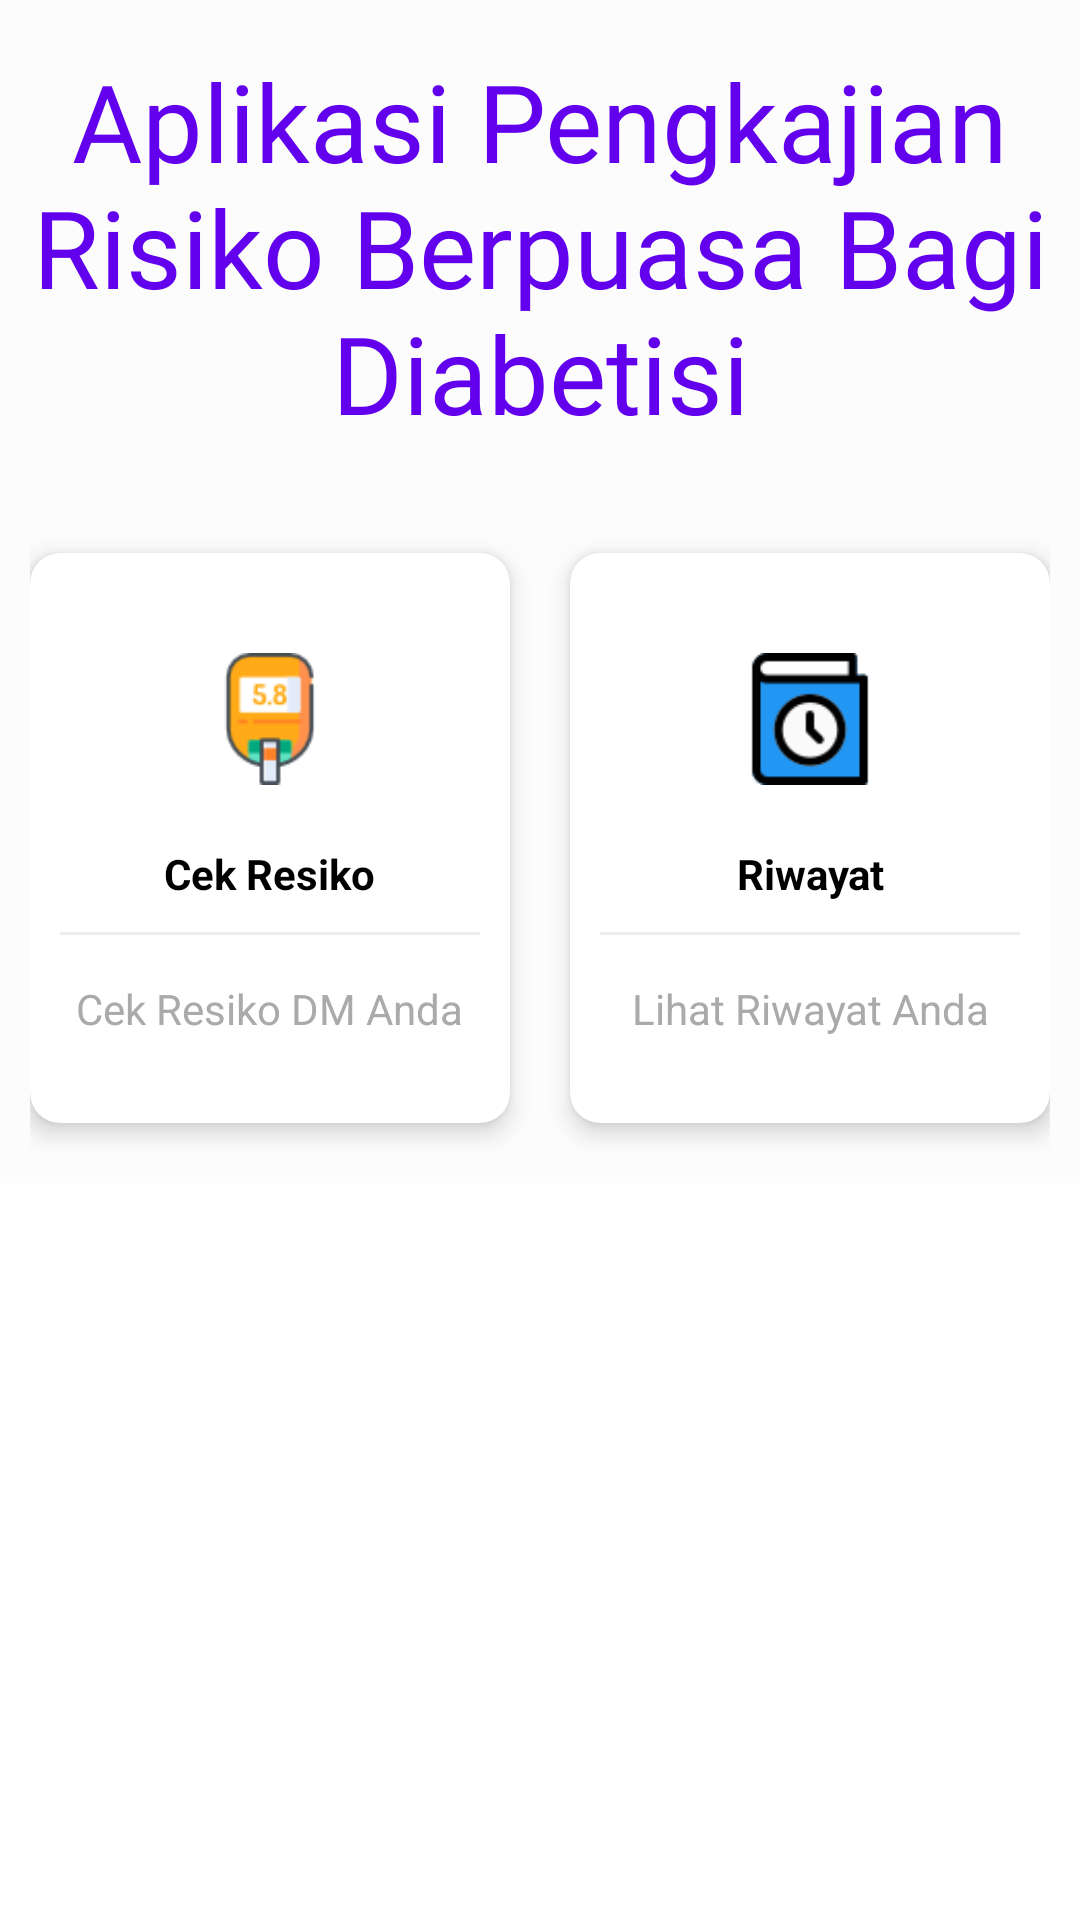

Icon bounding boxes for this 1080×1920 phone screenshot, format (x1, y1, x2, y2):
history: (751, 653, 869, 785)
sugar blood: (226, 653, 314, 785)
